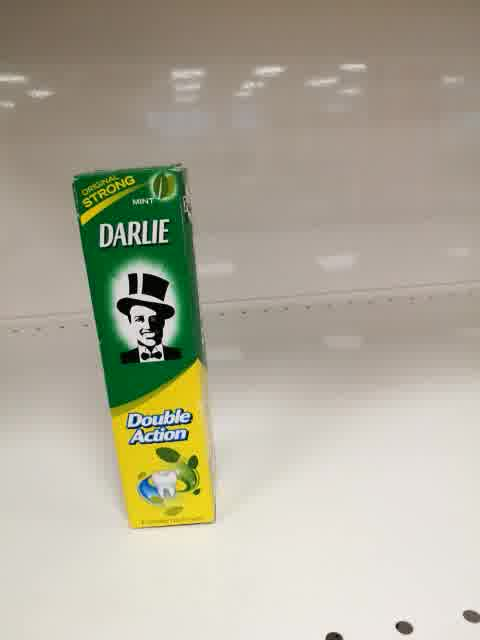toothpaste: (72, 162, 217, 530)
